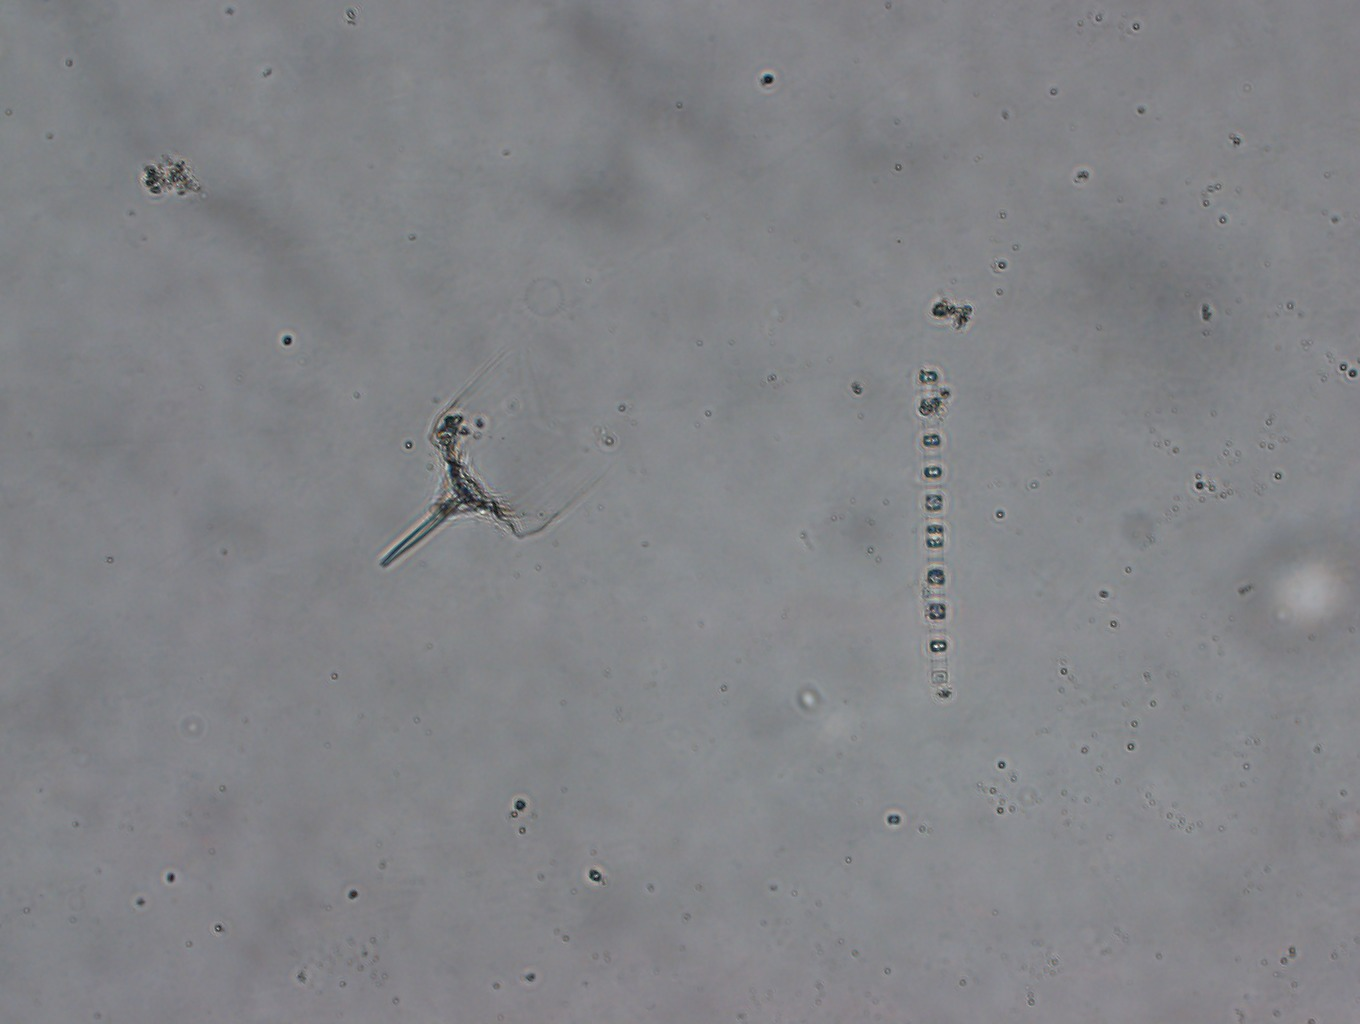ditylum: (374, 353, 619, 577)
skeletonema: (916, 362, 953, 699)
